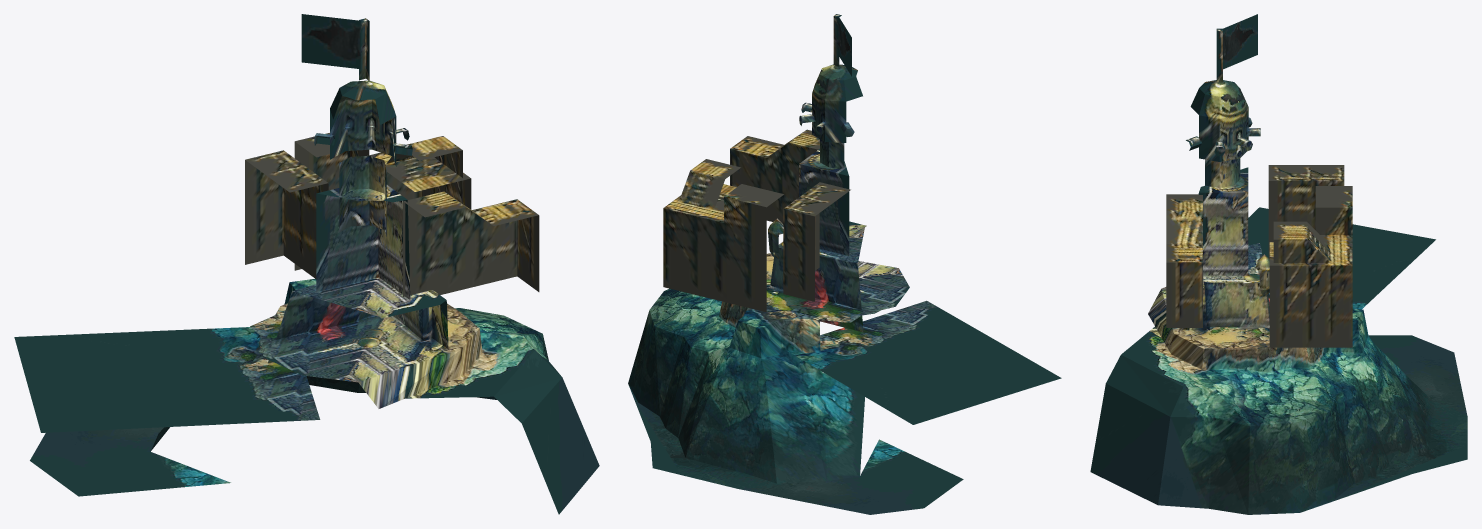
The model's file is F_GuildCannonTower_01.fbx.
The picture shows the model from 3 angles, left to right: view 1: azimuth 30°, elevation 25°; view 2: azimuth 150°, elevation 25°; view 3: azimuth 270°, elevation 25°; orthographic projection. The views are drawn at different scales.
Parts seen in each view (by area): view 1: F_GuildCannonTower_01, T_BuildForm_03 (1), T_BuildForm_02 (4), T_BuildForm_01; view 2: F_GuildCannonTower_01, T_BuildForm_01, T_BuildForm_03 (1), T_BuildForm_02 (4); view 3: F_GuildCannonTower_01, T_BuildForm_01, T_BuildForm_03 (1), T_BuildForm_02 (4).
Part boxes in pixels (x1,y1,x2,y2): F_GuildCannonTower_01: (14, 14, 599, 514); T_BuildForm_03 (1): (403, 191, 539, 296); T_BuildForm_02 (4): (245, 150, 328, 278); T_BuildForm_01: (294, 133, 471, 270); F_GuildCannonTower_01: (628, 14, 1061, 514); T_BuildForm_01: (663, 159, 783, 312); T_BuildForm_03 (1): (730, 129, 819, 223); T_BuildForm_02 (4): (783, 182, 850, 301); F_GuildCannonTower_01: (1090, 14, 1467, 514); T_BuildForm_01: (1269, 186, 1352, 347); T_BuildForm_03 (1): (1166, 194, 1202, 327); T_BuildForm_02 (4): (1268, 165, 1344, 258).
Size of what is drawn, in the model's own units: 1.64 by 1.43 by 1.23.
Materials: 2 (2 with a texture image).
